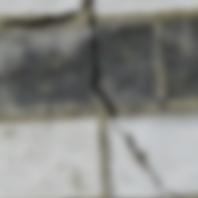brick: (0, 115, 101, 197), (161, 18, 197, 100), (93, 0, 197, 13), (0, 0, 80, 14)
broken_brick: (0, 26, 103, 106), (115, 113, 197, 192), (107, 116, 168, 195), (95, 24, 155, 104)
crack: (1, 0, 197, 197)
